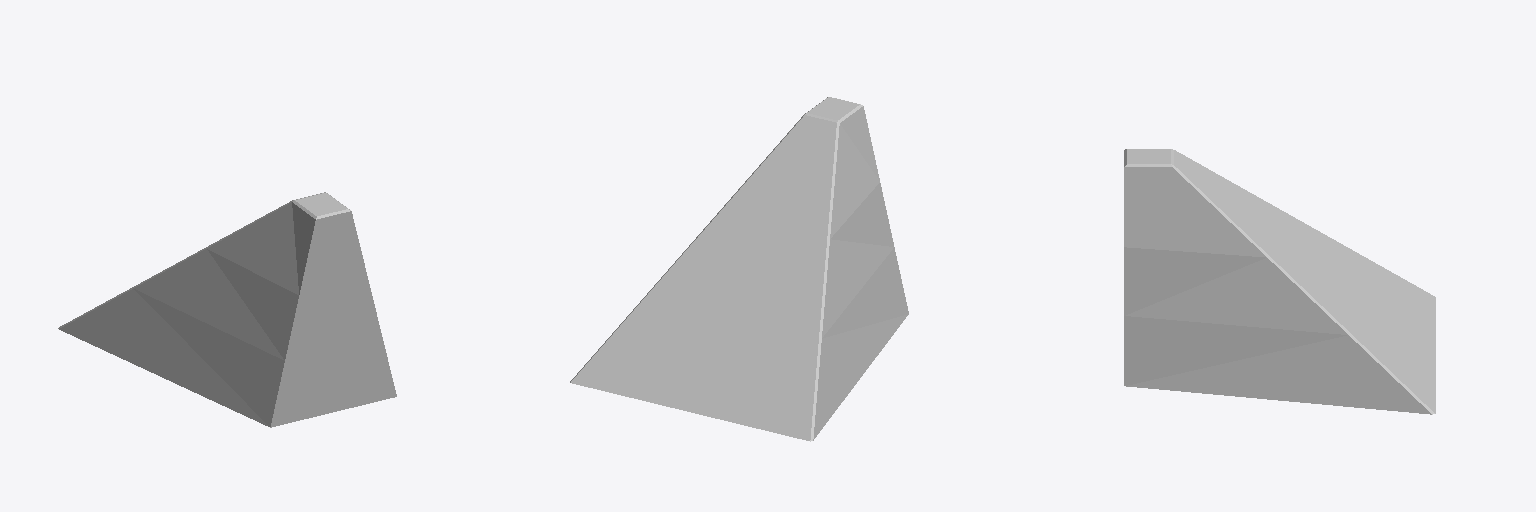
The model's file is PyramidNewModel.obj.
3 renders of one model, left to right at view 1: azimuth 30°, elevation 25°; view 2: azimuth 150°, elevation 25°; view 3: azimuth 270°, elevation 25°, orthographic.
Visible parts, largest first — view 1: BasePyramid__1_:Mesh; view 2: BasePyramid__1_:Mesh; view 3: BasePyramid__1_:Mesh.
Part boxes in pixels (bbox=[...]): BasePyramid__1_:Mesh: bbox=[58, 192, 396, 427]; BasePyramid__1_:Mesh: bbox=[570, 97, 908, 441]; BasePyramid__1_:Mesh: bbox=[1124, 149, 1435, 414].
Bounding box in the file's own units: 153 × 120 × 170.